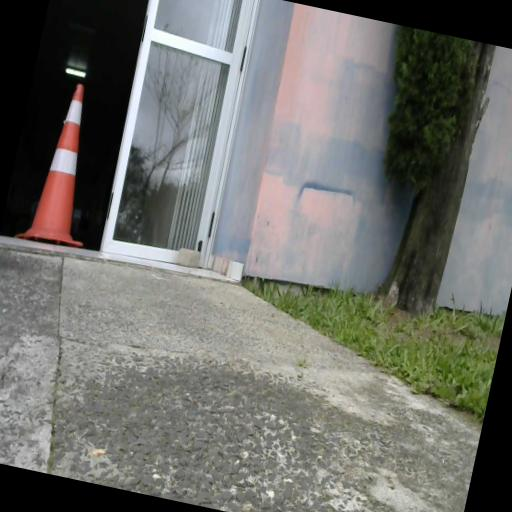cone: (14, 78, 114, 250)
